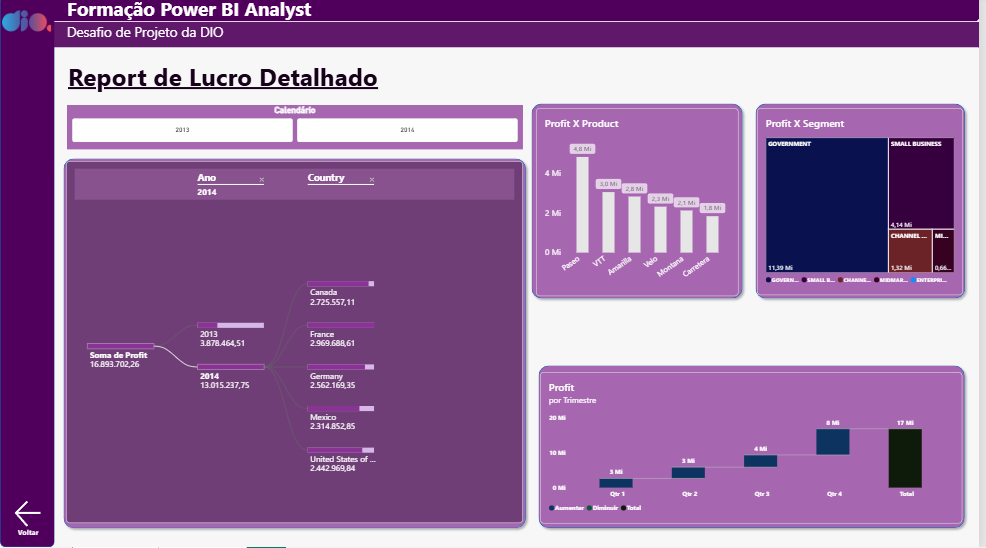

Layout of this report page (visuals, bound fields, positions):
{"tool":"powerbi","page":{"name":"Página 2","canvas":[1920,1080],"ordinal":1},"visuals":[{"type":"shape","box":[115.7,310,924.3,742.9],"z":0},{"type":"shape","box":[0,0,106.9,1080.6],"z":1000},{"type":"image","box":[4.5,0,102.4,97.8],"z":2000},{"type":"shape","box":[100.1,0,1819.9,50],"z":3000},{"type":"shape","box":[100,50,1819.9,50],"z":4000},{"type":"textbox","box":[131.9,0,495.9,86.4],"z":5000},{"type":"textbox","box":[116,50,527.8,86.4],"z":6000},{"type":"textbox","box":[132.7,124.5,626.5,112.2],"z":7000},{"type":"shape","box":[1032.9,202.9,431.4,400],"z":8000},{"type":"shape","box":[1472.9,202.9,428.6,400],"z":9000},{"type":"shape","box":[1046.4,716.6,853.1,336.7],"z":10000},{"type":"decompositionTreeVisual","fields":{"Analyze":["Sum(financials.Profit)"],"ExplainBy":["financials.Date.Variação.Hierarquia de datas.Ano","financials.Country"]},"box":[130,324.3,896,710],"z":11000},{"type":"treemap","title":"Profit X Segment","fields":{"Group":["financials.Segment"],"Values":["Sum(financials.Profit)"]},"box":[1484.3,220,404,367.1],"z":12000},{"type":"waterfallChart","title":"Profit","fields":{"Category":["financials.Date.Variação.Hierarquia de datas.Trimestre"],"Y":["Sum(financials.Profit)"]},"box":[1058.3,736.7,828.3,296.7],"z":13000},{"type":"lineStackedColumnComboChart","title":"Profit X Product","fields":{"Category":["financials.Product"],"Y":["Sum(financials.Profit)"]},"box":[1050,220,397.1,368.6],"z":14000},{"type":"advancedSlicerVisual","title":"Calendário","fields":{"Values":["financials.Date.Variação.Hierarquia de datas.Ano"]},"box":[131.4,212.9,894.3,87.1],"z":15000},{"type":"actionButton","box":[5.7,960,99,109],"z":16000}]}

Visuals, with their boxes in screenshot pixels (x1, y1, x2, y2):
shape: bbox(55, 153, 533, 537)
shape: bbox(0, 0, 50, 547)
image: bbox(0, 0, 50, 43)
shape: bbox(47, 0, 985, 18)
shape: bbox(47, 18, 985, 44)
textbox: bbox(63, 0, 320, 37)
textbox: bbox(55, 18, 328, 63)
textbox: bbox(64, 57, 388, 115)
shape: bbox(530, 97, 753, 304)
shape: bbox(757, 97, 979, 304)
shape: bbox(537, 363, 978, 538)
decompositionTreeVisual - Sum(financials.Profit) x financials.Date.Variação.Hierarquia de datas.Ano: bbox(62, 160, 526, 528)
"Profit X Segment" treemap: bbox(763, 106, 973, 296)
"Profit" waterfallChart: bbox(543, 374, 972, 527)
"Profit X Product" lineStackedColumnComboChart: bbox(539, 106, 744, 297)
"Calendário" advancedSlicerVisual: bbox(63, 103, 526, 148)
actionButton: bbox(0, 489, 49, 546)
